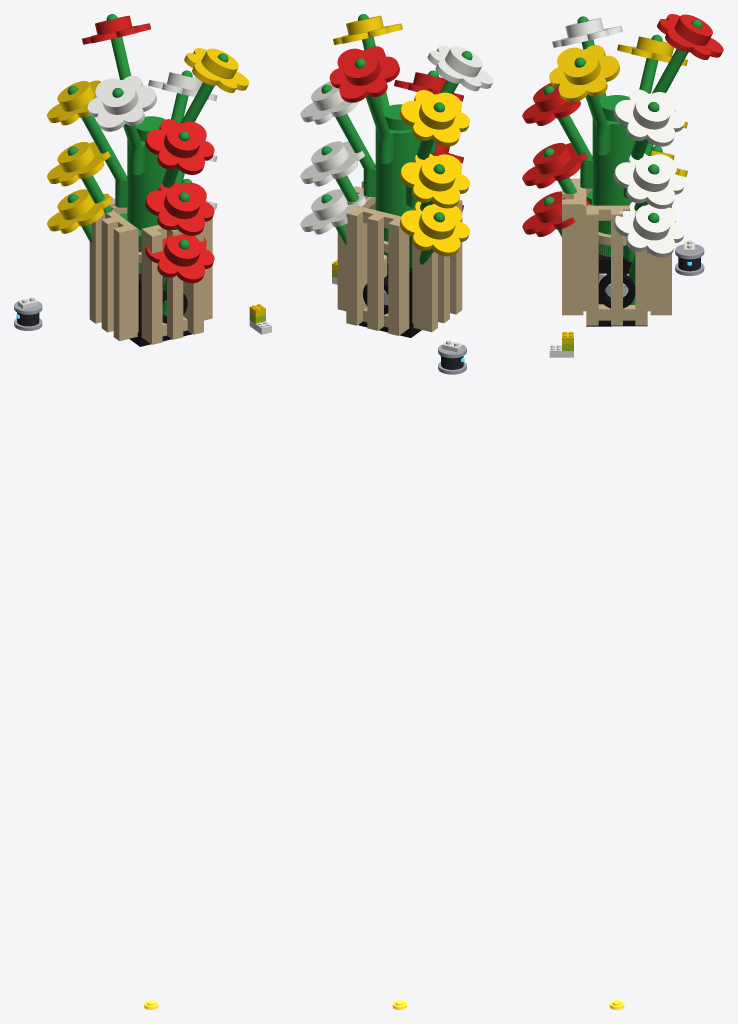
The model's file is fiori_lego.glb.
3 renders of one model, left to right at view 1: azimuth 30°, elevation 25°; view 2: azimuth 150°, elevation 25°; view 3: azimuth 270°, elevation 25°, orthographic. The views are drawn at different scales.
Parts seen in each view (by area): view 1: v1_lastra_w, v1_lastra_s, v1_pianta_high, v1_pianta_low, v1_fiore_1, v1_fiore_4, v2_fiore_1, v3_fiore_1, v1_fiore_6, v2_fiore_2, v3_fiore_2, v1_fiore_2 (+6 smaller); view 2: v1_lastra_n, v1_lastra_w, v1_pianta_high, v1_pianta_low, v1_fiore_5, v1_fiore_2, v2_fiore_2, v3_fiore_2, v1_fiore_4, v2_fiore_3, v3_fiore_3, v1_fiore_3 (+7 smaller); view 3: v1_lastra_e, v1_pianta_high, v1_lastra_s, v1_pianta_low, v1_fiore_6, v1_fiore_3, v2_fiore_3, v3_fiore_3, v1_fiore_5, v2_fiore_1, v1_lastra_n, v1_fiore_1 (+7 smaller).
Part boxes in pixels (box(x1,y1,x2,y2)): v1_lastra_w: box(89, 210, 138, 340); v1_lastra_s: box(141, 225, 203, 344); v1_pianta_high: box(106, 14, 228, 188); v1_pianta_low: box(67, 70, 192, 230); v1_fiore_1: box(145, 119, 214, 174); v1_fiore_4: box(87, 75, 156, 131); v2_fiore_1: box(145, 181, 214, 235); v3_fiore_1: box(145, 234, 214, 283); v1_fiore_6: box(184, 48, 249, 92); v2_fiore_2: box(47, 142, 110, 186); v3_fiore_2: box(47, 189, 111, 233); v1_fiore_2: box(47, 80, 100, 125); v1_lastra_n: box(346, 205, 409, 335); v1_lastra_w: box(412, 199, 462, 332); v1_pianta_high: box(354, 14, 472, 177); v1_pianta_low: box(321, 70, 444, 216); v1_fiore_5: box(329, 46, 399, 102); v1_fiore_2: box(399, 90, 469, 146); v2_fiore_2: box(399, 153, 469, 208); v3_fiore_2: box(399, 201, 469, 256); v1_fiore_4: box(427, 45, 493, 91); v2_fiore_3: box(300, 141, 364, 186); v3_fiore_3: box(300, 189, 366, 234); v1_fiore_3: box(300, 81, 358, 124); v1_lastra_e: box(586, 205, 647, 325); v1_pianta_high: box(574, 16, 702, 168); v1_lastra_s: box(562, 178, 586, 315); v1_pianta_low: box(543, 34, 662, 205); v1_fiore_6: box(549, 45, 619, 102); v1_fiore_3: box(614, 89, 684, 146); v2_fiore_3: box(614, 153, 684, 208); v3_fiore_3: box(614, 202, 684, 257); v1_fiore_5: box(657, 14, 723, 59); v2_fiore_1: box(522, 143, 587, 188); v1_lastra_n: box(647, 204, 671, 315); v1_fiore_1: box(522, 83, 580, 125).
Bounding box in the file's own units: 2.9 × 14.27 × 2.63.
